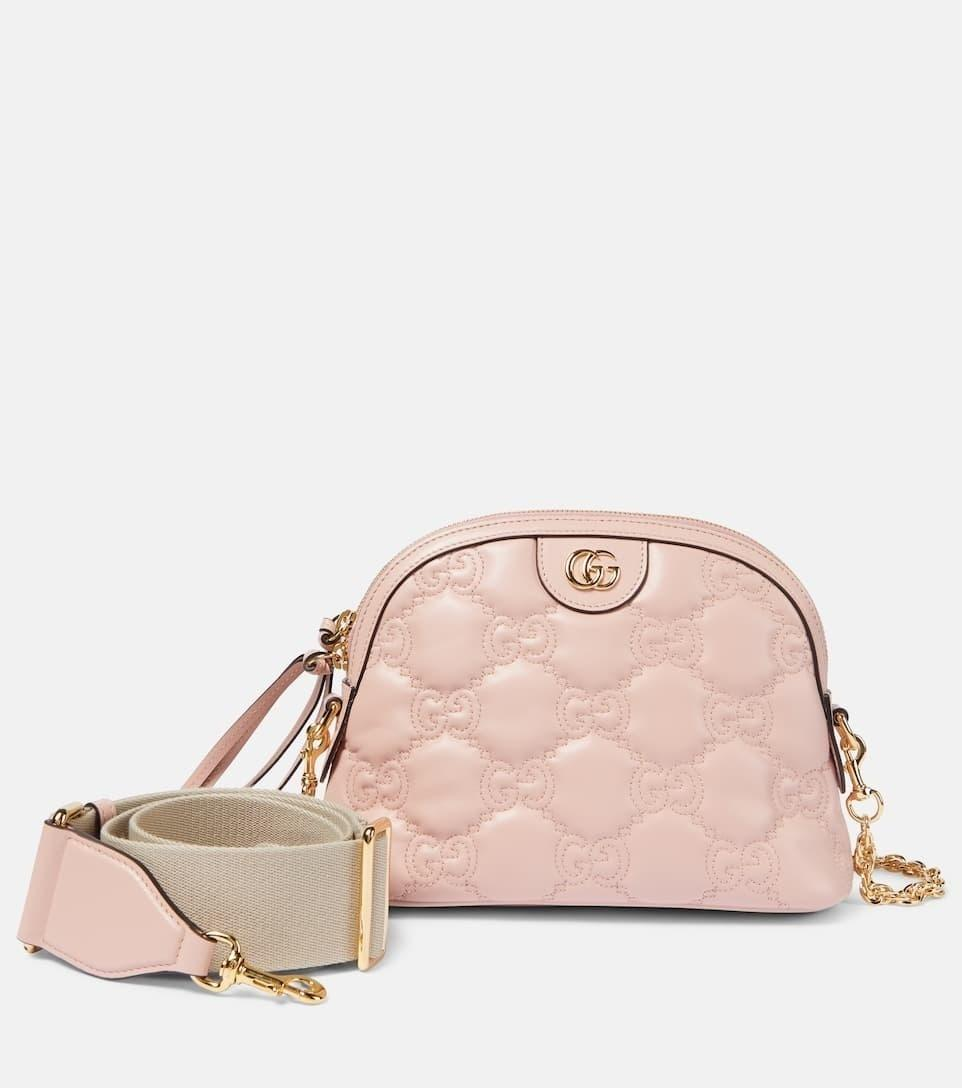GUCCI: (564, 548, 621, 591)
